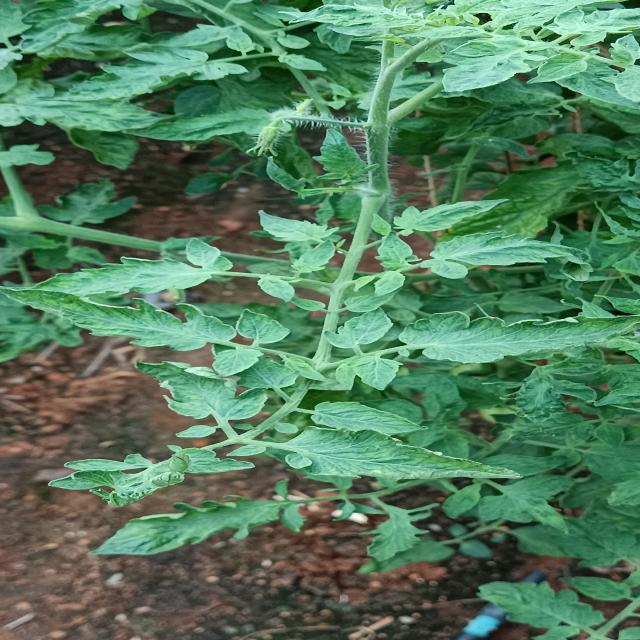Healthy Leaf: (4, 288, 237, 359), (285, 427, 522, 489), (383, 313, 640, 367), (1, 246, 252, 298), (135, 364, 259, 429), (431, 231, 574, 287), (231, 209, 359, 248), (405, 196, 508, 234)
